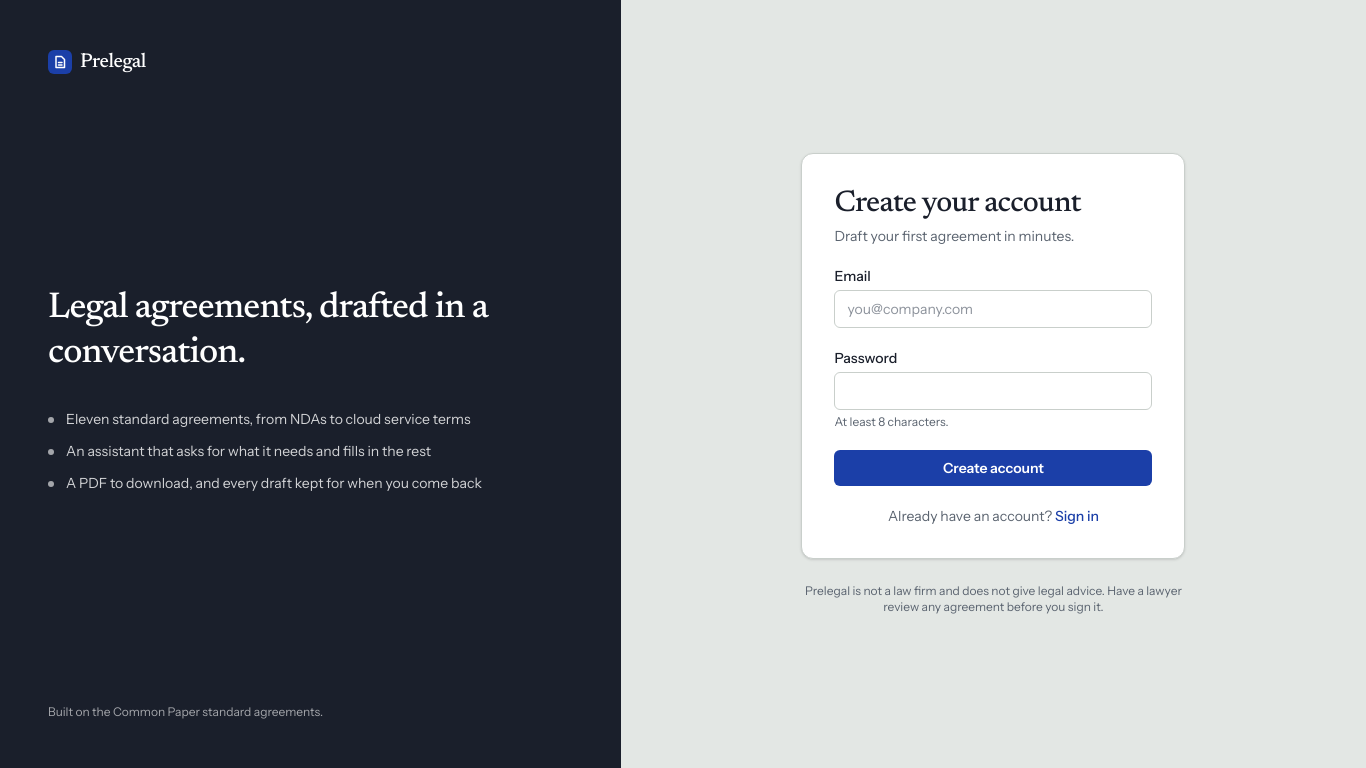
Scenario: AuthForm › stays on the sign-up screen and says why when it fails
Type "ada@example.com" into the field labelled "Email".
click(993, 309); type("ada@example.com")  # box top-left (834, 290), bottom-right (1152, 328)
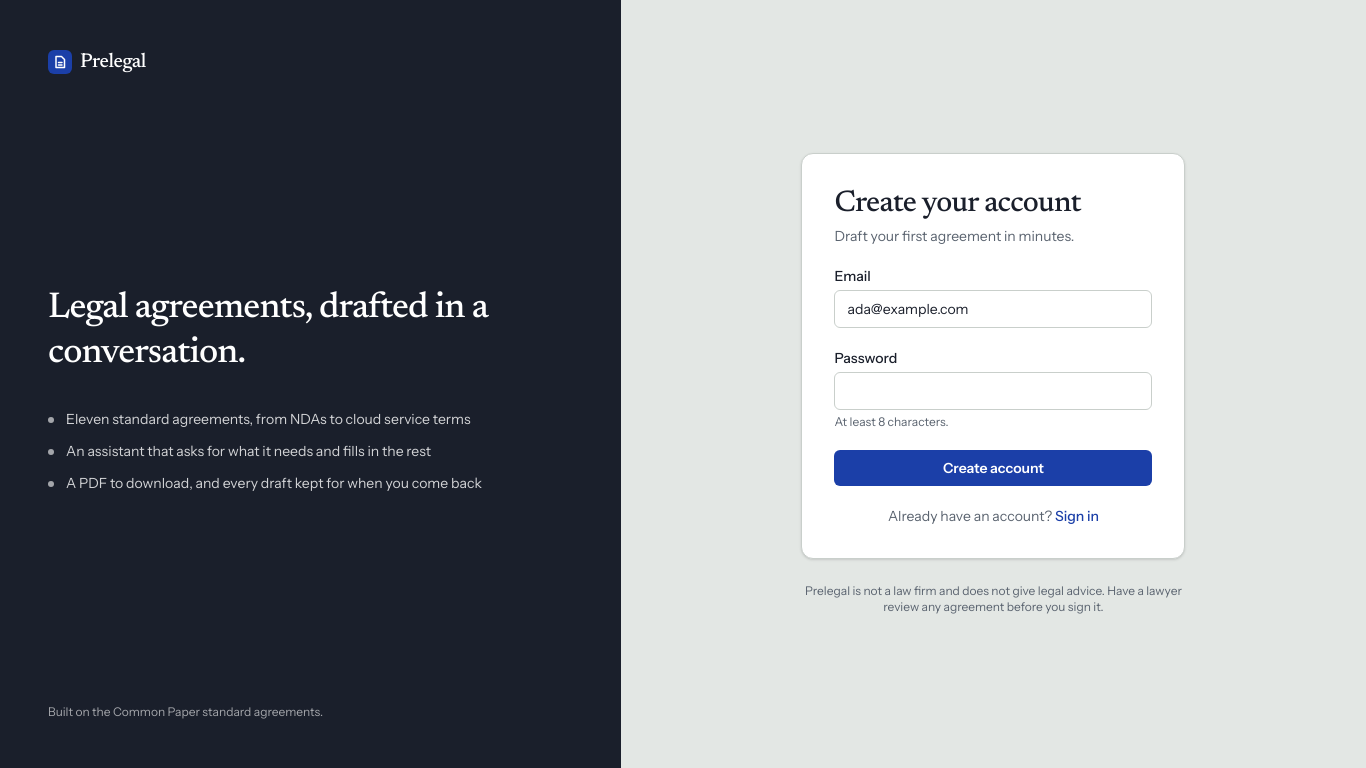
Type "correct horse" into the password field labelled "Password".
click(993, 391); type("correct horse")  # box top-left (834, 372), bottom-right (1152, 410)
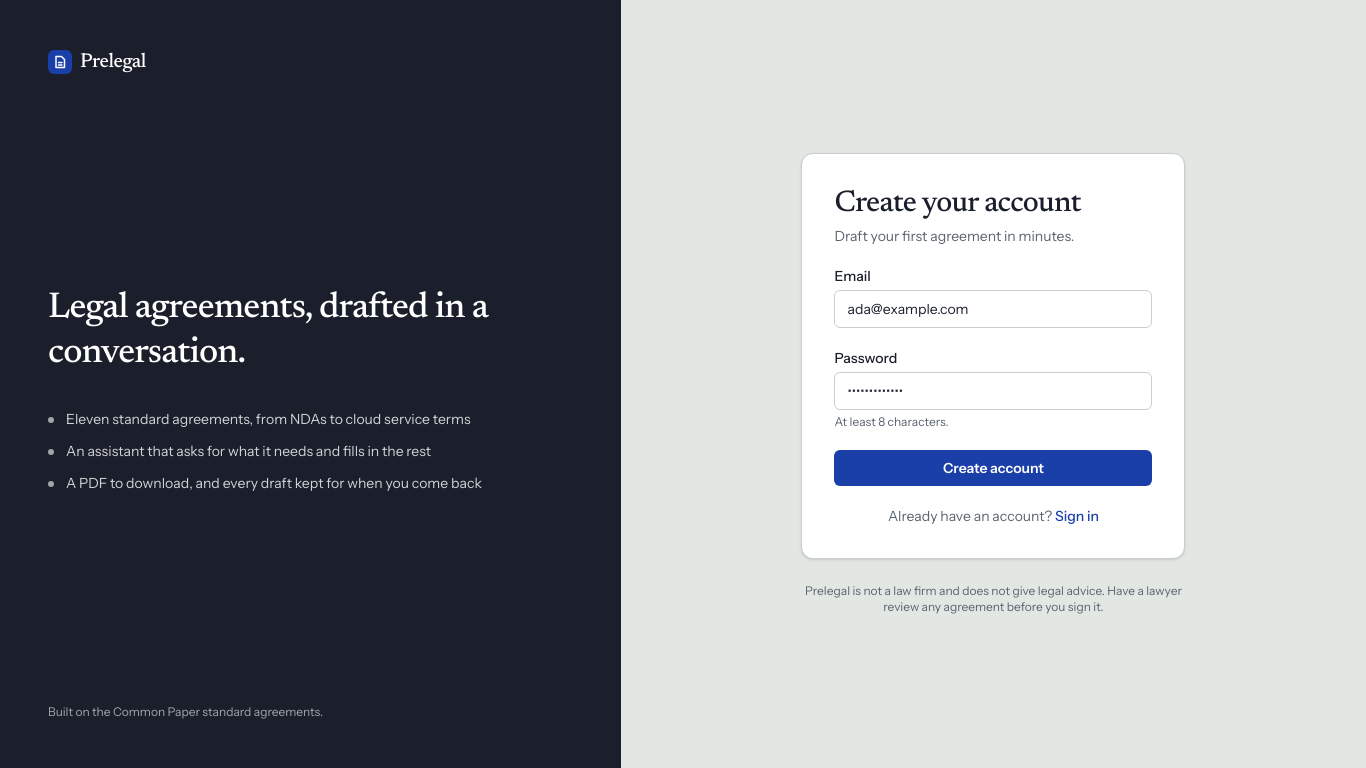
Click the button "Create account".
click(993, 468)  # box top-left (834, 450), bottom-right (1152, 486)
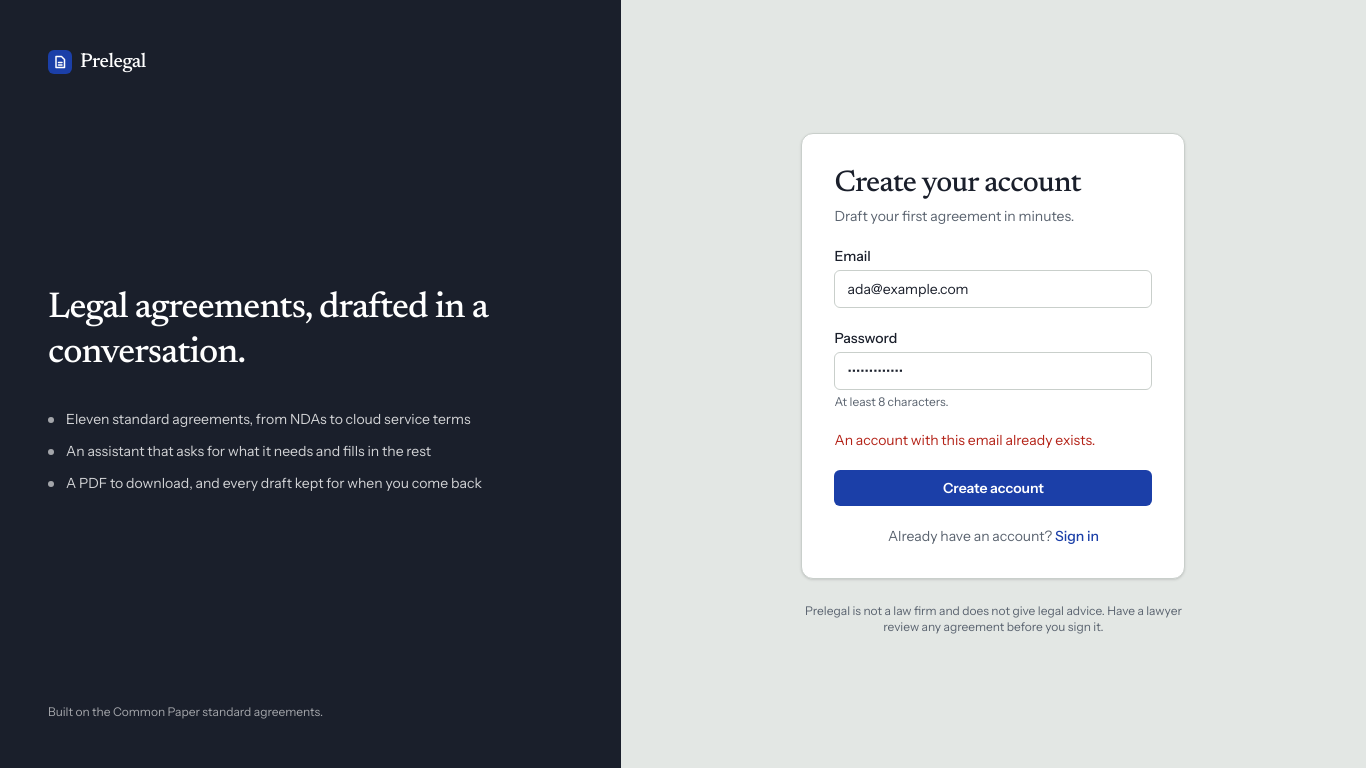
expect the button "Create account" is enabled: met, box top-left (834, 470), bottom-right (1152, 506)
expect the message reads "An account with this email already exists.": met, box top-left (834, 431), bottom-right (1095, 449)
